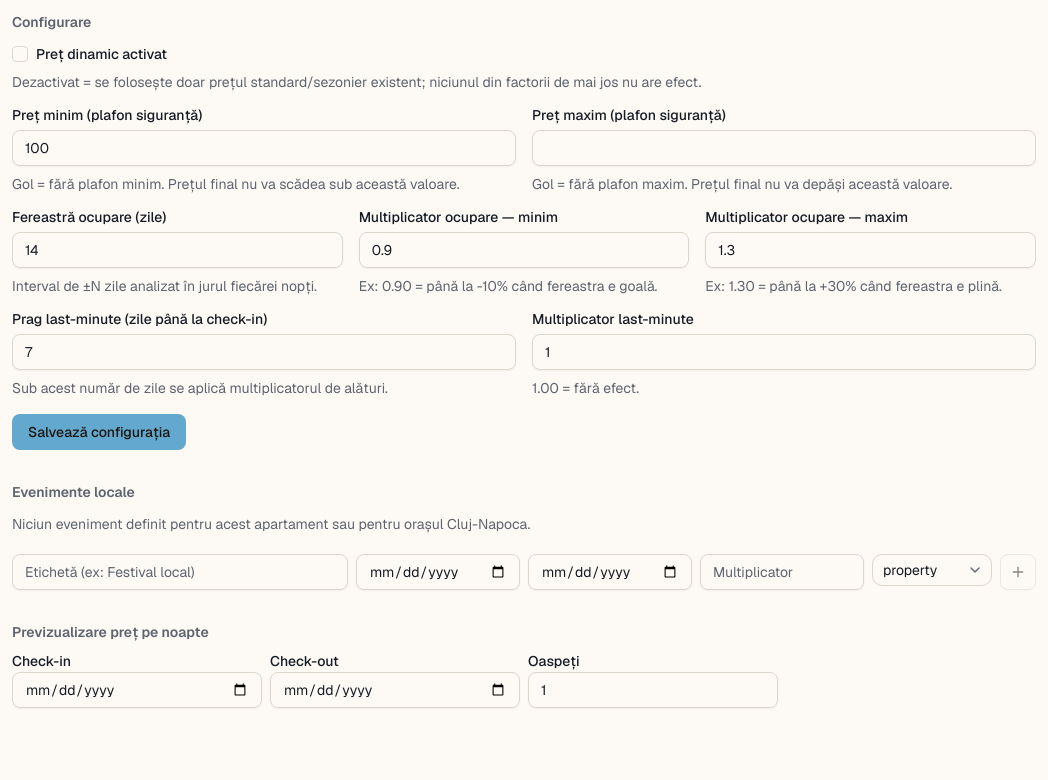
Test: PricingAdminSection › shows a real validation error and blocks submission when minPrice > maxPrice
This screenshot has width=1048, height=780.
Type "50" into the number field labelled "Preț maxim (plafon siguranță)".
click(784, 148); type("50")  # box [532,130,1036,166]
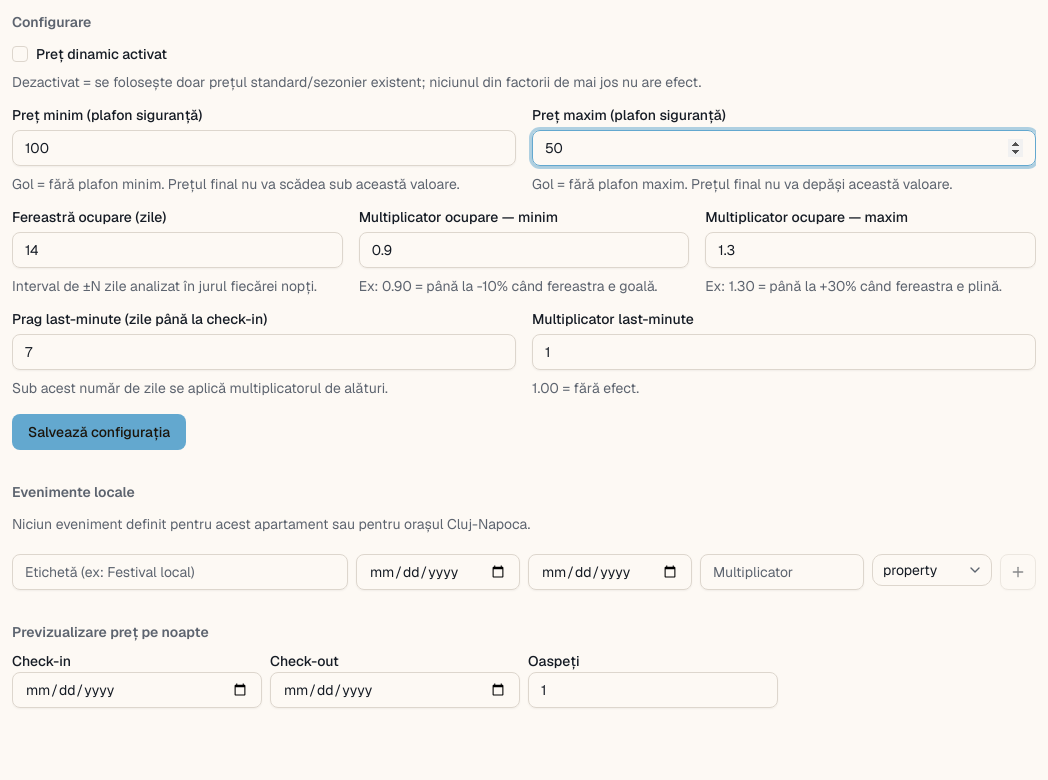
Click the button "Salvează configurația".
click(99, 432)  # box [12,414,186,450]
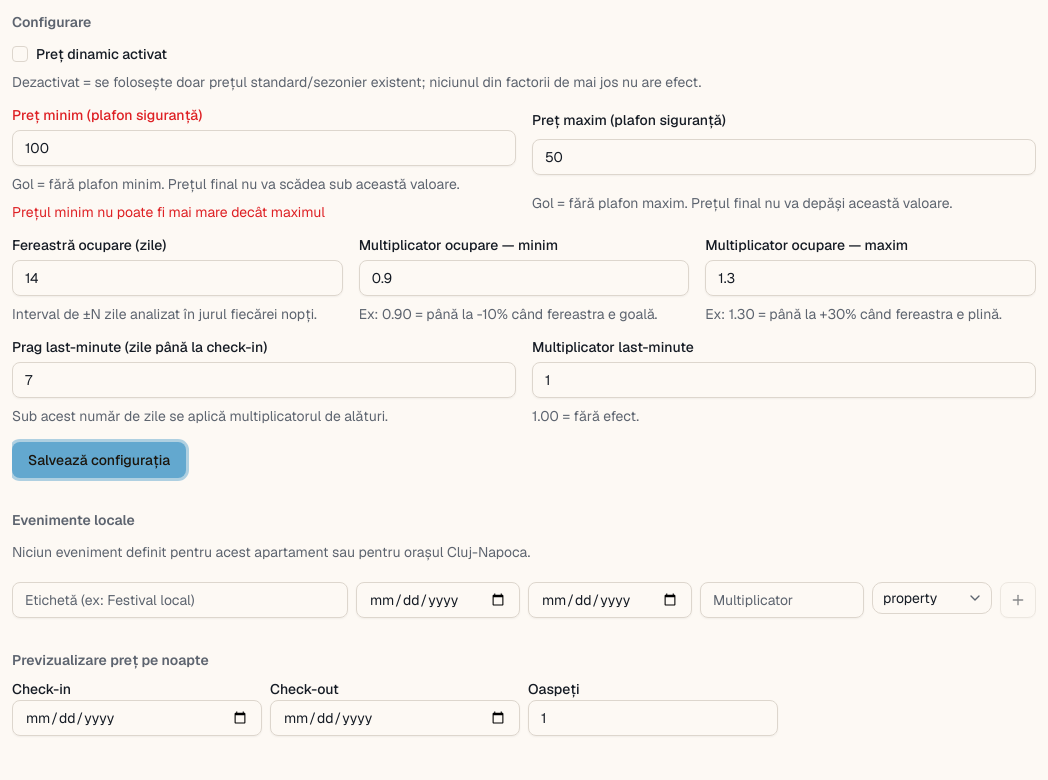
Expected: the text "Prețul minim nu poate fi mai mare decât maximul" is shown, [12,203,325,221]
